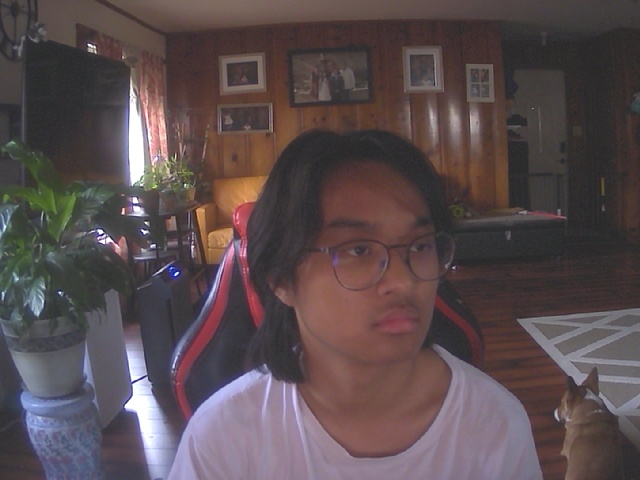neutral: (263, 139, 459, 366)
